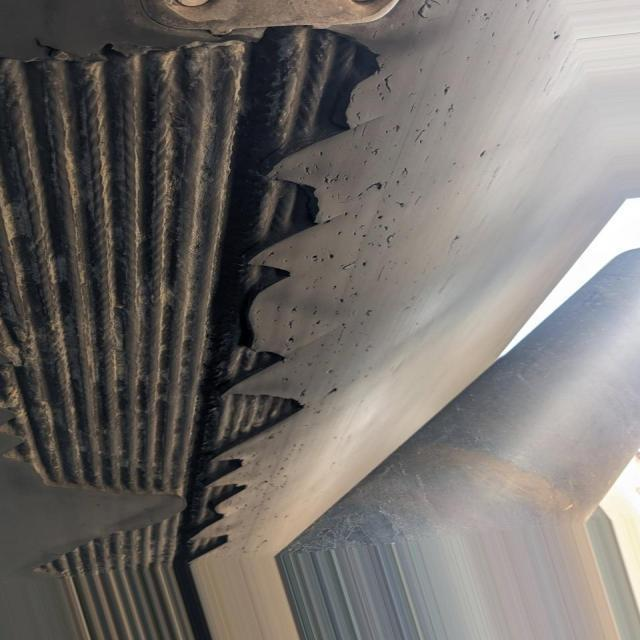Tear: (0, 24, 387, 640)
